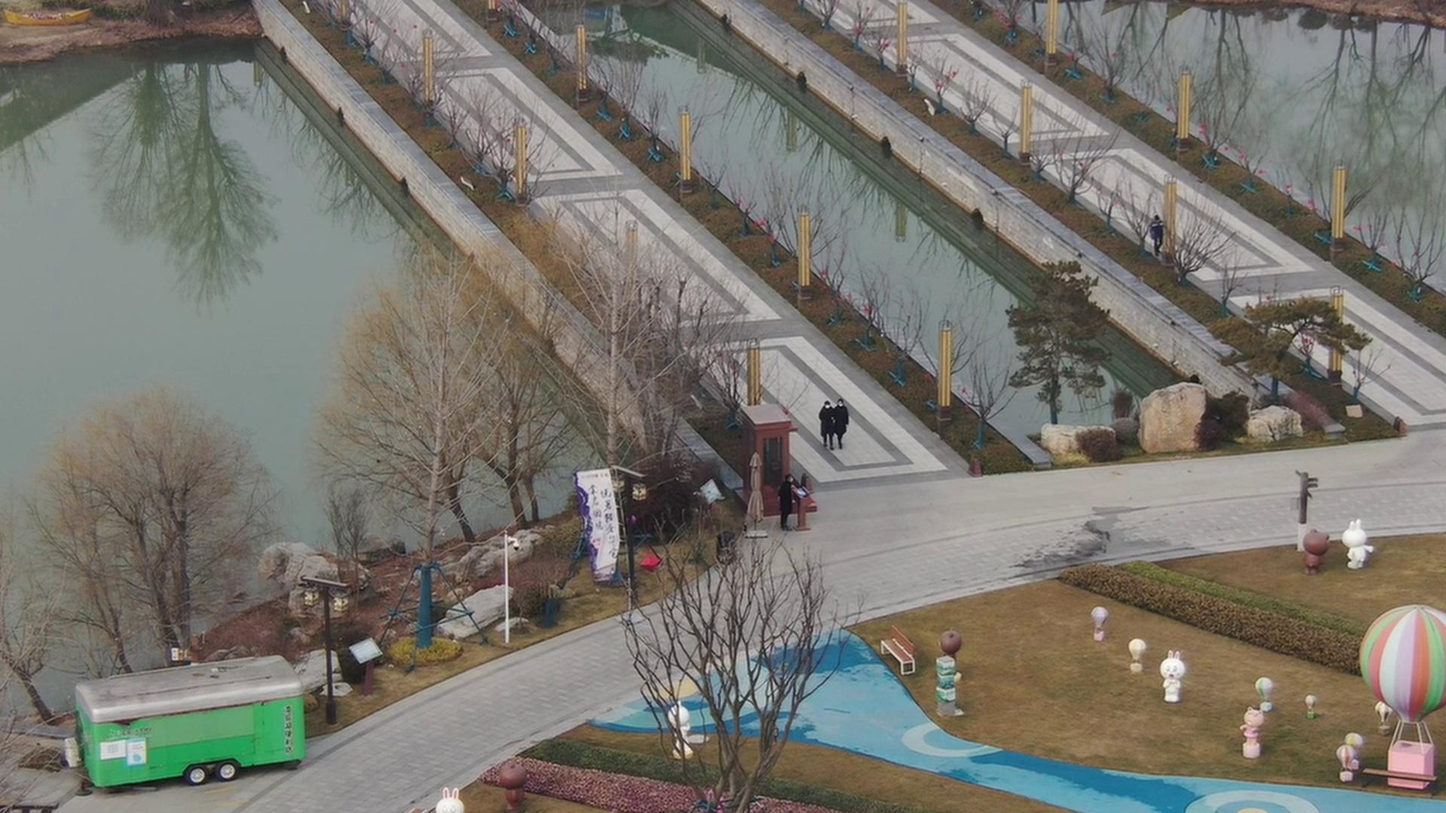class_2: (813, 402, 850, 451)
human: (772, 473, 795, 531)
